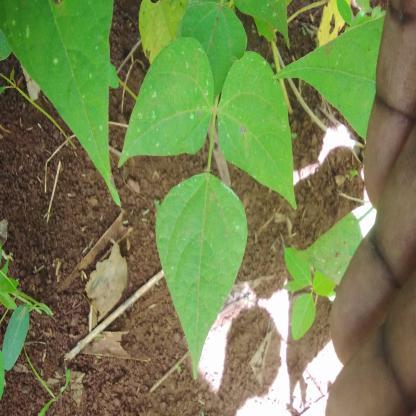Beans_Angular_LeafSpot: (162, 166, 247, 374), (114, 40, 220, 169), (224, 51, 298, 223)
